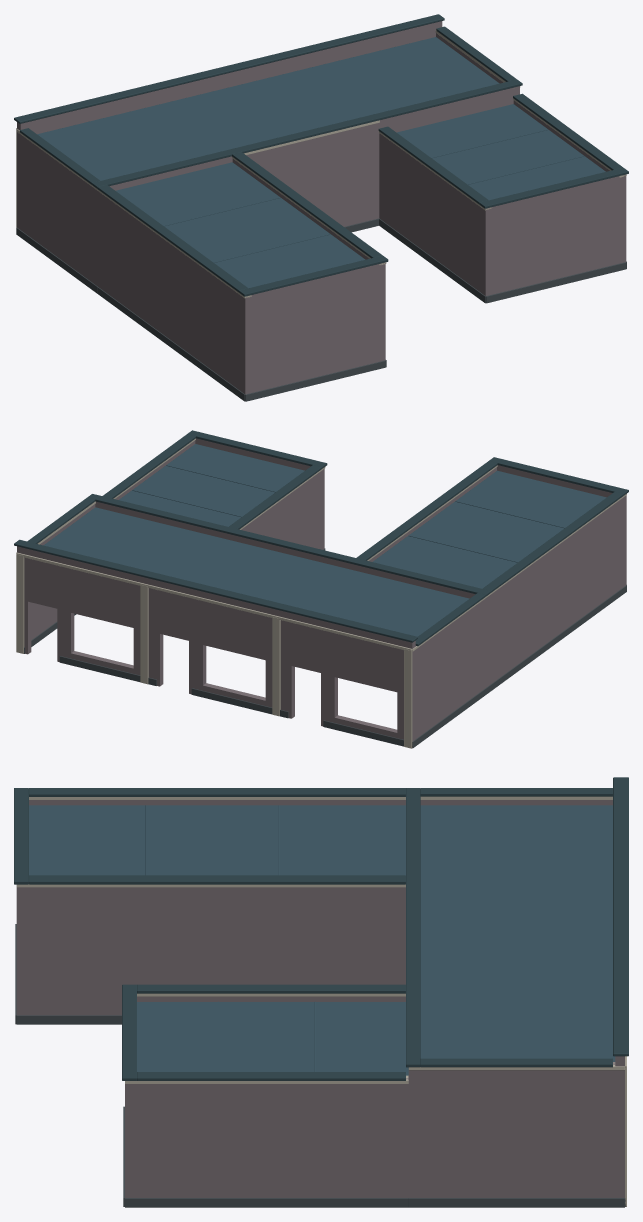
Rendered from d06_shopfront_blocks_02.glb.
3 renders of one model, top to bottom at view 1: azimuth 30°, elevation 25°; view 2: azimuth 150°, elevation 25°; view 3: azimuth 270°, elevation 25°, orthographic. The views are drawn at different scales.
Visible parts, largest first — view 1: front_roof_deck, west_deep_roof, west_wall_left, west_rear_wall, east_rear_wall, front_bar_rear_wall, east_deep_roof, east_wall_left, front_bar_west, front_wall_six_openings, front_parapet_coping, front_rear_coping (+15 smaller); view 2: front_wall_six_openings, front_roof_deck, west_deep_roof, west_wall_left, east_deep_roof, front_bar_west, east_wall_left, front_parapet_coping, front_rear_coping, front_bar_rear_wall, front_head_course, west_coping_left (+20 smaller); view 3: front_roof_deck, west_wall_right, east_wall_right, west_deep_roof, front_bar_east, east_deep_roof, front_parapet_coping, front_rear_coping, west_coping_right, west_coping_left, east_plinth_right, east_coping_left (+17 smaller).
Boxes of the visible parts, x1,y1,x2,y2 form: front_roof_deck: (37, 37, 499, 180); west_deep_roof: (115, 162, 365, 288); west_wall_left: (98, 191, 251, 394); west_rear_wall: (251, 264, 379, 392); east_rear_wall: (492, 176, 620, 294); front_bar_rear_wall: (109, 87, 513, 226); east_deep_roof: (396, 104, 605, 200); east_wall_left: (379, 133, 491, 295); front_bar_west: (20, 135, 98, 286); front_wall_six_openings: (17, 21, 442, 229); front_parapet_coping: (14, 14, 444, 123); front_rear_coping: (92, 79, 522, 188); front_wall_six_openings: (17, 546, 415, 741); front_roof_deck: (43, 507, 469, 636); west_deep_roof: (373, 470, 606, 588); west_wall_left: (488, 495, 626, 685); east_deep_roof: (119, 444, 304, 526); front_bar_west: (415, 596, 488, 738); east_wall_left: (241, 469, 324, 549); front_parapet_coping: (14, 539, 417, 642); front_rear_coping: (87, 494, 490, 596); front_bar_rear_wall: (95, 501, 475, 598); front_head_course: (16, 552, 412, 650); west_coping_left: (482, 492, 623, 592); front_roof_deck: (420, 805, 615, 1061); west_wall_right: (16, 887, 405, 1015); east_wall_right: (125, 1076, 408, 1197); west_deep_roof: (29, 805, 405, 875); front_bar_east: (408, 1062, 615, 1197); east_deep_roof: (137, 1002, 408, 1075); front_parapet_coping: (613, 777, 628, 1056); front_rear_coping: (406, 788, 420, 1067); west_coping_right: (29, 875, 405, 884); west_coping_left: (29, 788, 405, 796); east_plinth_right: (125, 1198, 408, 1207); east_coping_left: (137, 984, 405, 993).
Size of the model in its own units: 19.36 by 5.05 by 18.2.
